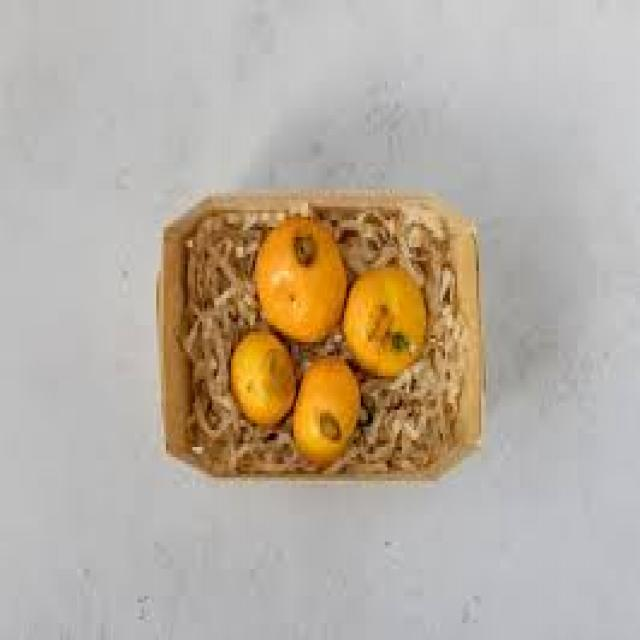organic waste: (253, 210, 344, 339), (339, 261, 424, 376), (291, 352, 356, 464), (228, 325, 294, 423)
